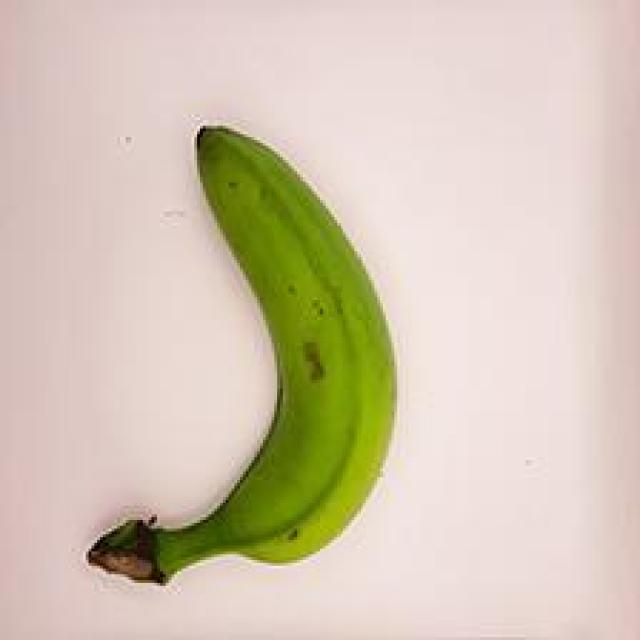raw: (52, 105, 427, 586)
